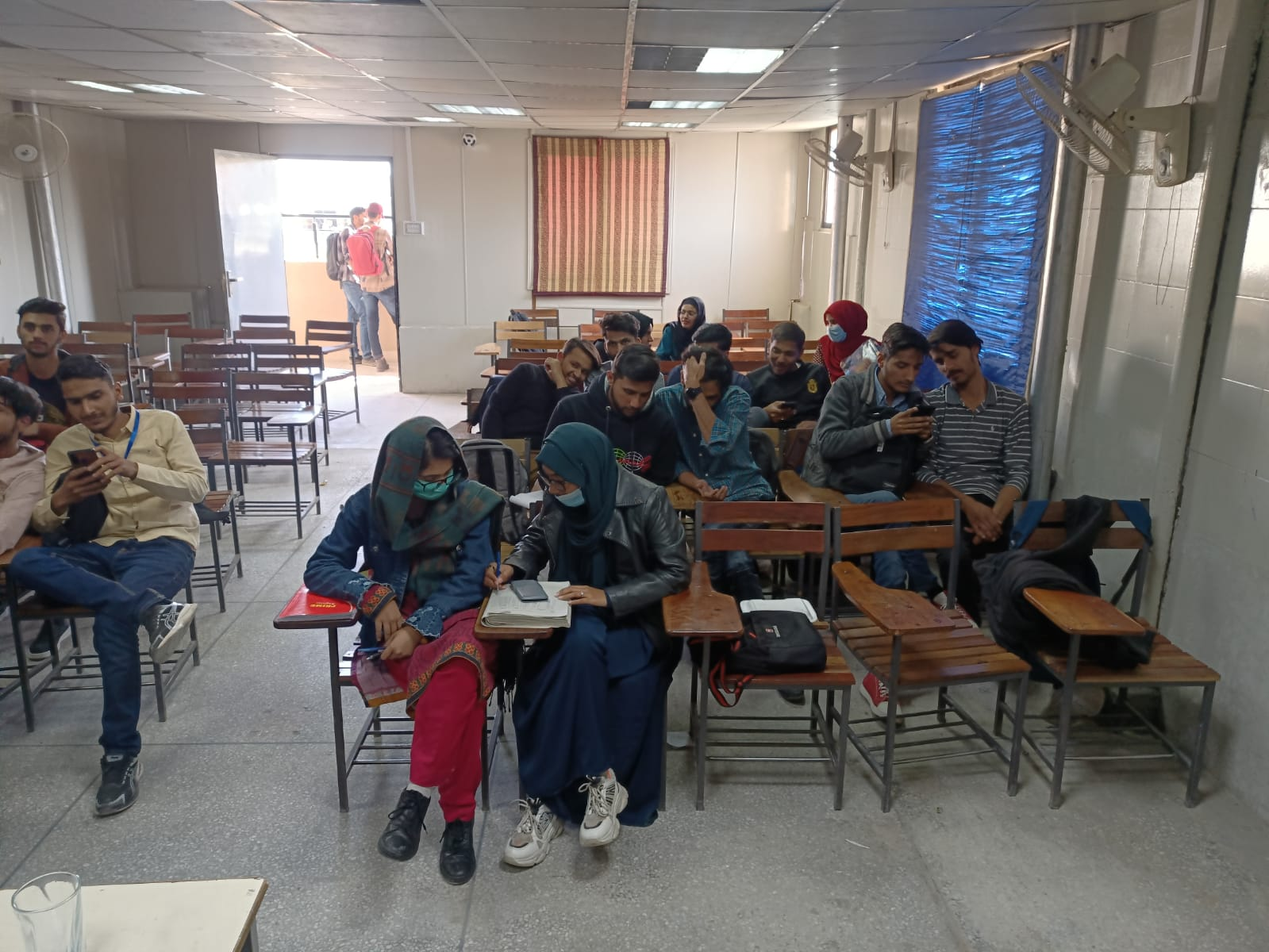non-cheating: (57, 355, 124, 434), (16, 297, 66, 358), (766, 321, 806, 376)
phone: (58, 445, 126, 499), (894, 405, 936, 435), (509, 578, 549, 603), (767, 399, 799, 425)
